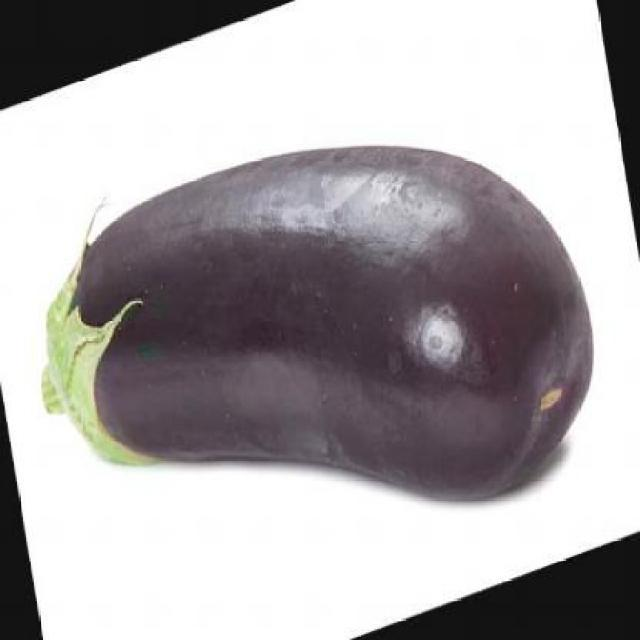eggplant: (38, 142, 596, 506)
